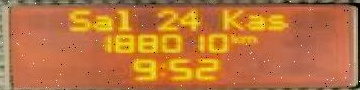0: (205, 33, 227, 52), (158, 33, 180, 52)
1: (196, 33, 205, 52), (102, 34, 111, 51)
2: (193, 56, 218, 79), (153, 7, 178, 30)
4: (176, 7, 198, 30)
5: (166, 56, 191, 79)
8: (111, 33, 133, 53), (136, 33, 156, 52)
9: (131, 57, 155, 80)
X: (64, 8, 89, 32), (220, 7, 244, 30), (111, 7, 129, 30), (262, 13, 287, 29), (242, 13, 264, 30), (89, 13, 111, 30), (238, 34, 256, 43), (156, 60, 165, 76), (229, 33, 240, 43)
